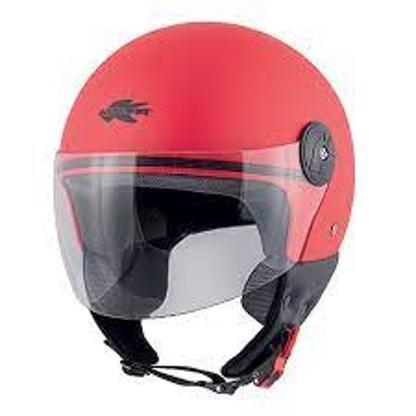not trash: (56, 22, 353, 390)
